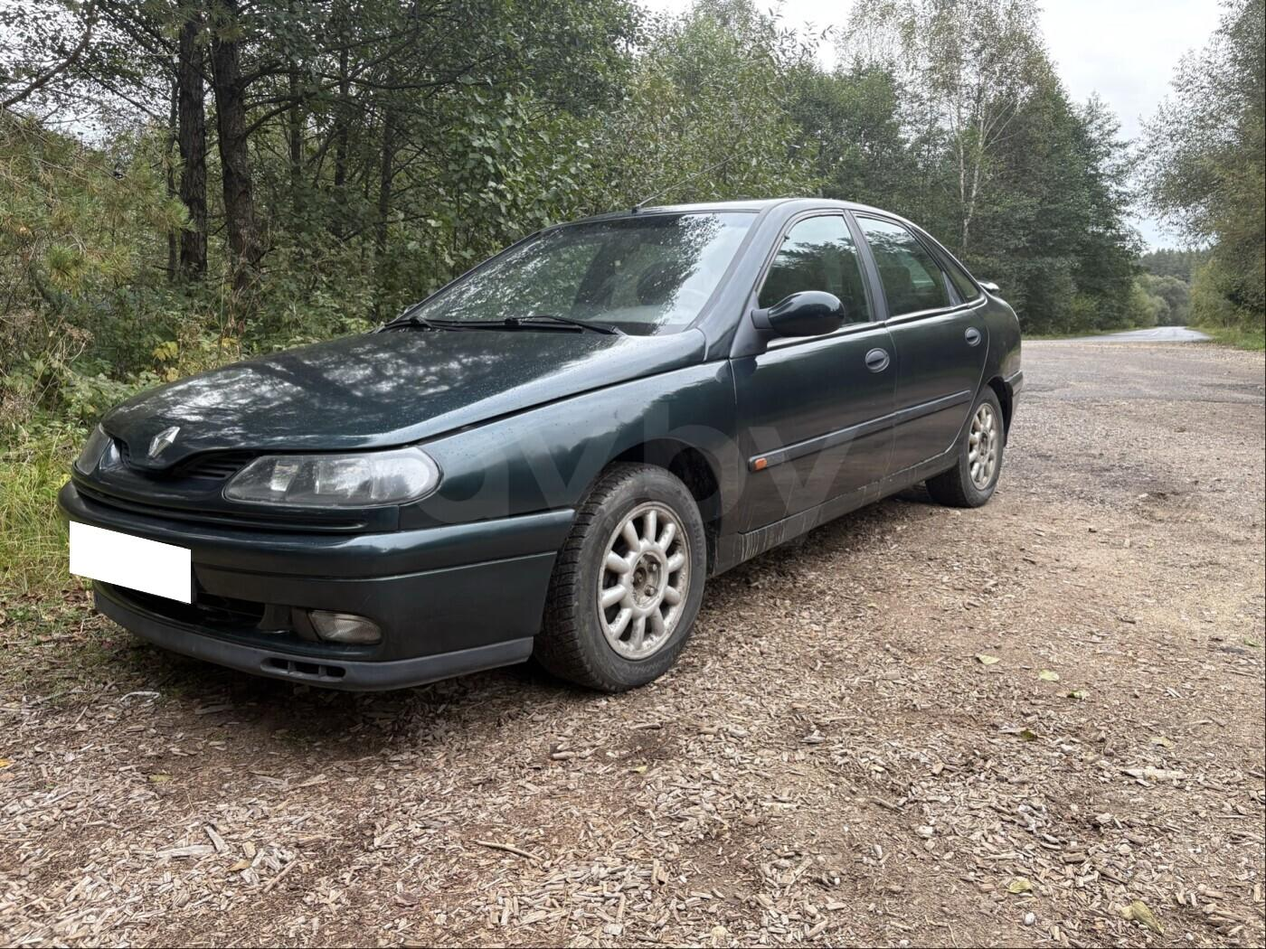Lahuna_1993-1999: (53, 179, 1030, 717)
